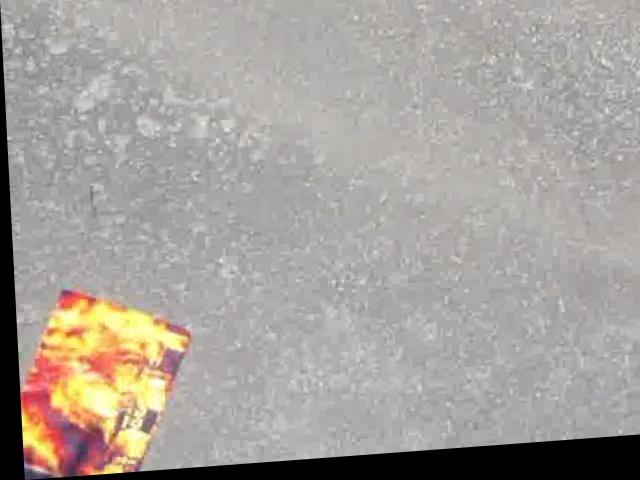fire-poster: (12, 283, 194, 479)
